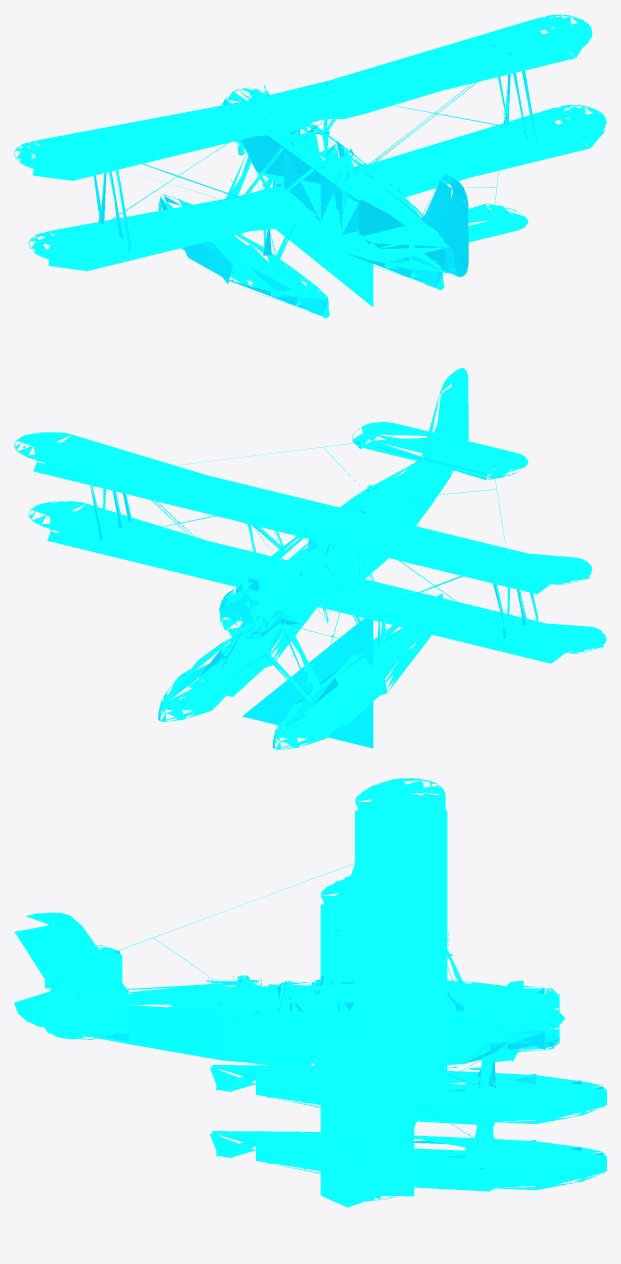
Rendered from PJAS010.glb.
3 renders of one model, top to bottom at view 1: azimuth 30°, elevation 25°; view 2: azimuth 150°, elevation 25°; view 3: azimuth 270°, elevation 25°, orthographic. The views are drawn at different scales.
Parts seen in each view (by area): view 1: misc; view 2: misc; view 3: misc.
Boxes of the visible parts, x1,y1,x2,y2 form: misc: (14,14,606,317); misc: (14,368,606,749); misc: (14,778,606,1207).
Size of the model in its own units: 0.9323 by 0.3973 by 0.7124.
